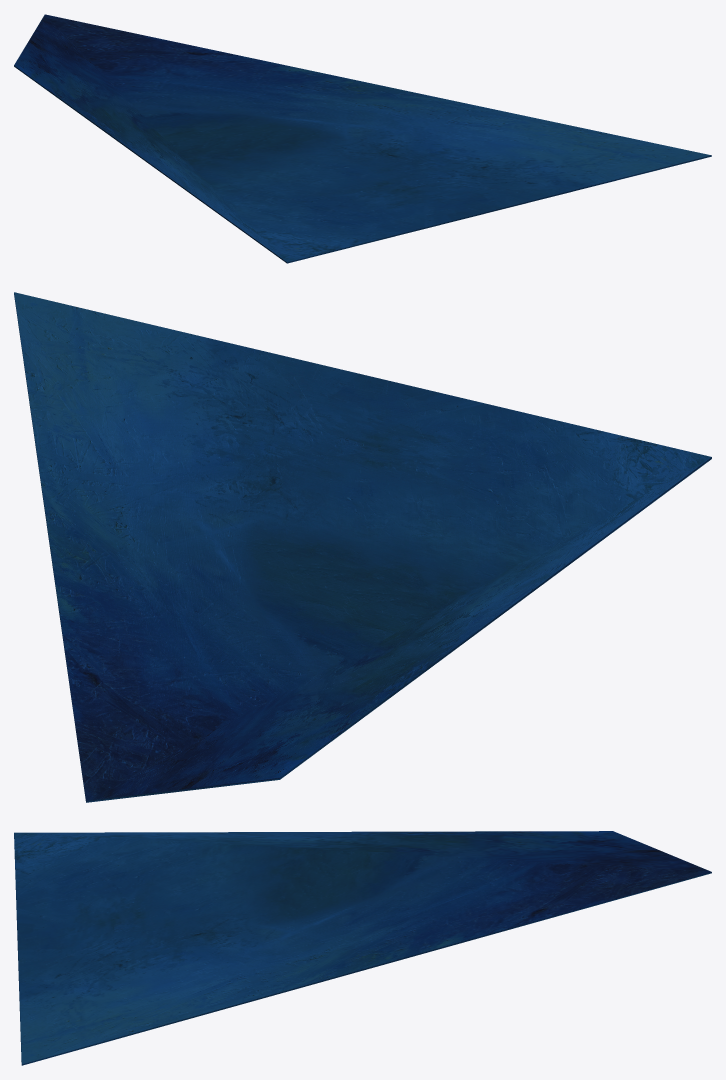
The model's file is marine3.FBX.
The picture shows the model from 3 angles, top to bottom: view 1: azimuth 30°, elevation 25°; view 2: azimuth 150°, elevation 25°; view 3: azimuth 270°, elevation 25°; orthographic projection. The views are drawn at different scales.
Visible parts, largest first — view 1: plat; view 2: plat; view 3: plat.
Part boxes in pixels (bbox=[...]): plat: bbox=[14, 14, 711, 263]; plat: bbox=[14, 292, 711, 802]; plat: bbox=[14, 831, 711, 1065].
Bounding box in the file's own units: 46.85 × 0.1263 × 59.22.
Materials: 1 (1 with a texture image).
